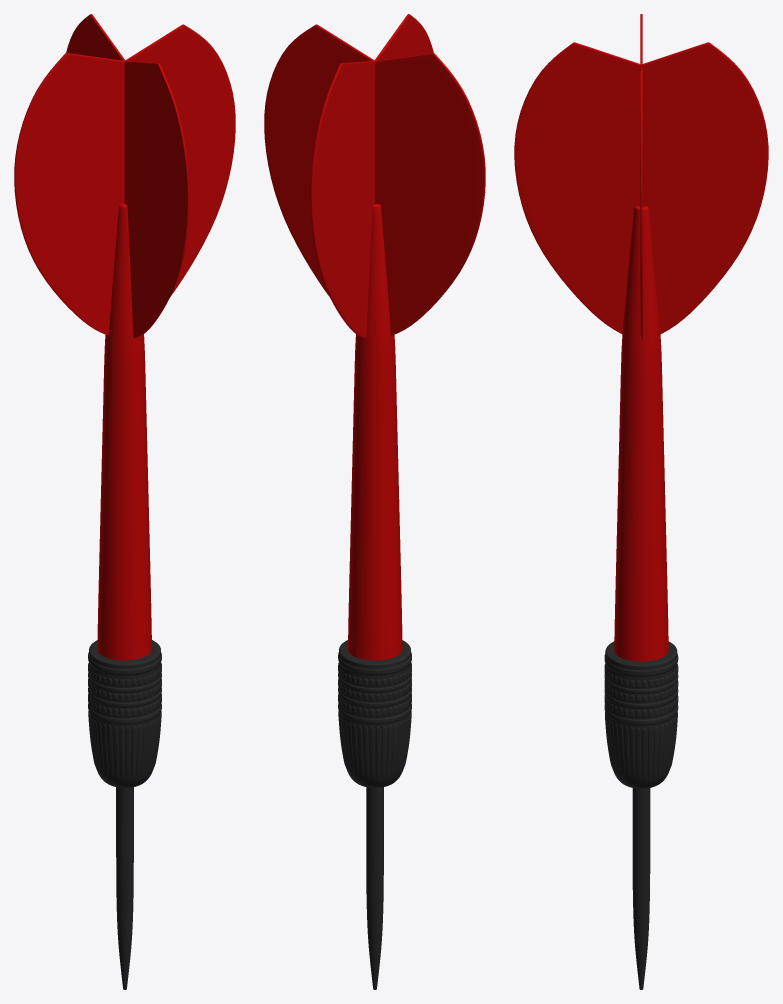
File: dart.obj
3 renders of one model, left to right at view 1: azimuth 30°, elevation 25°; view 2: azimuth 150°, elevation 25°; view 3: azimuth 270°, elevation 25°, orthographic.
Parts seen in each view (by area): view 1: dart_04_DartArt, dart_03_DartArt, dart_06_DartArt, dart_05_DartArt, dart_00_DartMetal, dart_01_DartMetal, dart_02_DartArt; view 2: dart_04_DartArt, dart_03_DartArt, dart_02_DartArt, dart_05_DartArt, dart_00_DartMetal, dart_01_DartMetal, dart_06_DartArt; view 3: dart_06_DartArt, dart_02_DartArt, dart_03_DartArt, dart_00_DartMetal, dart_01_DartMetal, dart_05_DartArt.
Part boxes in pixels (x1=…): dart_04_DartArt: x1=14, y1=53, x2=124, y2=335; dart_03_DartArt: x1=97, y1=204, x2=151, y2=660; dart_06_DartArt: x1=124, y1=61, x2=189, y2=338; dart_05_DartArt: x1=125, y1=24, x2=235, y2=296; dart_00_DartMetal: x1=88, y1=640, x2=161, y2=787; dart_01_DartMetal: x1=116, y1=787, x2=133, y2=989; dart_02_DartArt: x1=66, y1=14, x2=125, y2=60; dart_04_DartArt: x1=375, y1=53, x2=485, y2=335; dart_03_DartArt: x1=348, y1=204, x2=402, y2=660; dart_02_DartArt: x1=310, y1=61, x2=375, y2=338; dart_05_DartArt: x1=264, y1=24, x2=374, y2=296; dart_00_DartMetal: x1=338, y1=640, x2=411, y2=787; dart_01_DartMetal: x1=366, y1=787, x2=383, y2=989; dart_06_DartArt: x1=374, y1=14, x2=433, y2=60; dart_06_DartArt: x1=514, y1=42, x2=640, y2=334; dart_02_DartArt: x1=642, y1=42, x2=768, y2=334; dart_03_DartArt: x1=614, y1=206, x2=668, y2=661; dart_00_DartMetal: x1=604, y1=641, x2=678, y2=788; dart_01_DartMetal: x1=632, y1=788, x2=650, y2=989; dart_05_DartArt: x1=640, y1=64, x2=642, y2=341.
Bounding box in the file's own units: 3.7 × 15.21 × 3.7.
